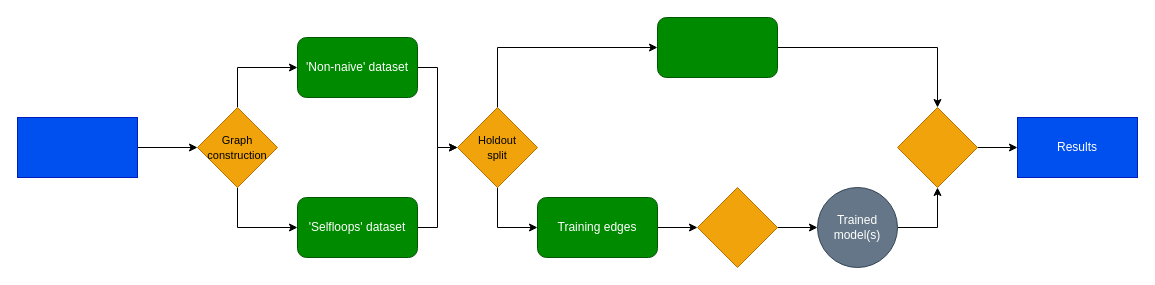
This 1155x285 diagram has some shape labels left out. Each missing label, with the centre of its shape:
"10% of edges from each polypharmacy side effect" goes at point (717, 47).
"Assessment" goes at point (937, 147).
"Decagon raw data (http://snap.stanford.edu/decagon)" goes at point (77, 147).
"LibKGE" goes at point (737, 227).
